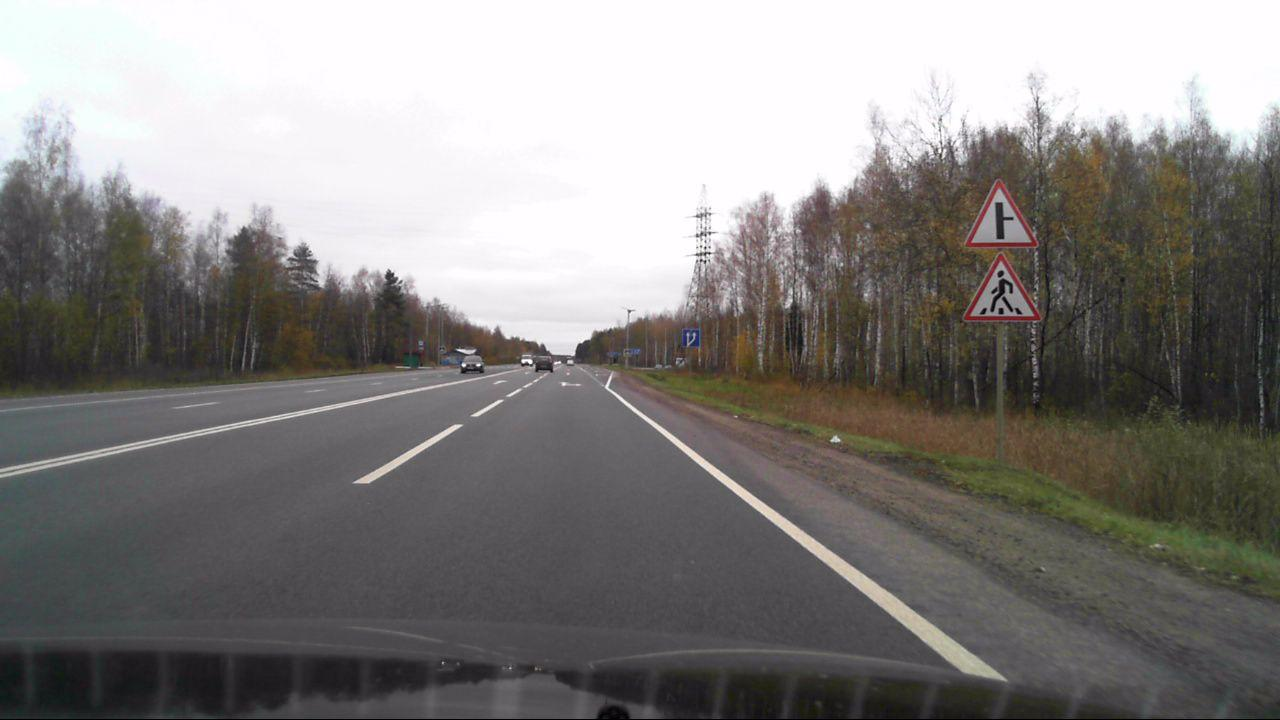1_22: (961, 253, 1040, 322)
2_3_2: (964, 175, 1041, 249)
5_15_3: (682, 328, 701, 347)
5_19_1: (624, 350, 631, 357)
5_19_2: (438, 346, 446, 353)
